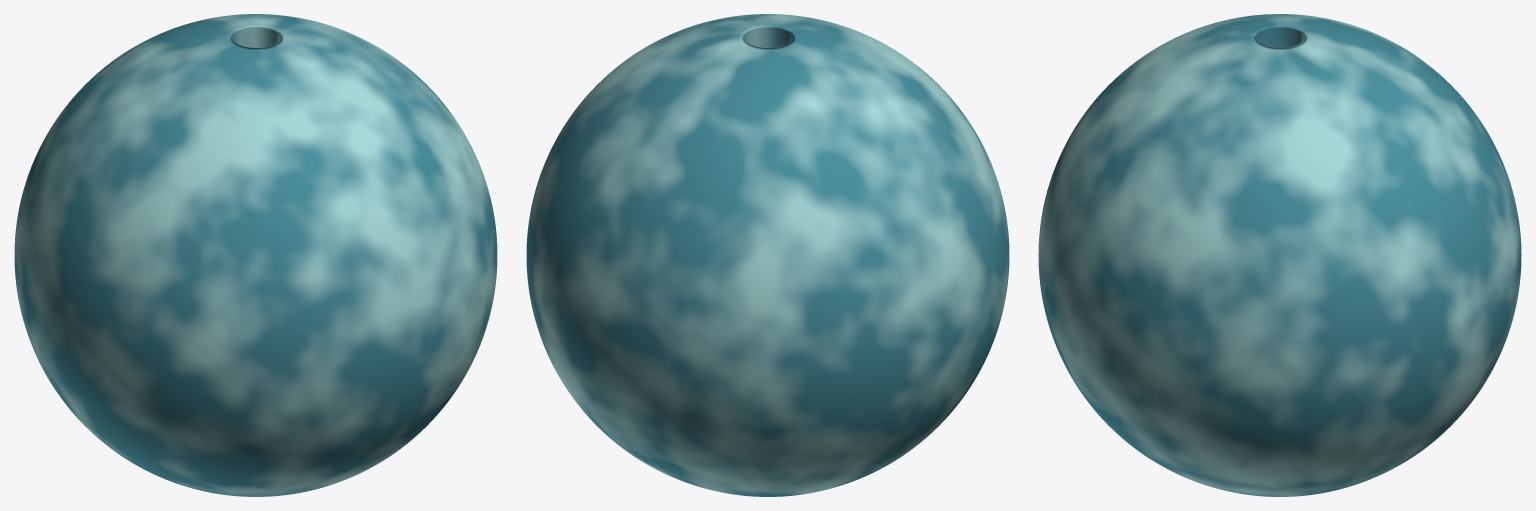
File: round-10mm.glb
The picture shows the model from 3 angles, left to right: view 1: azimuth 30°, elevation 25°; view 2: azimuth 150°, elevation 25°; view 3: azimuth 270°, elevation 25°; orthographic projection.
Visible parts, largest first — view 1: 圆珠; view 2: 圆珠; view 3: 圆珠.
Part boxes in pixels (<box>): 圆珠: <box>14,14,497,496</box>; 圆珠: <box>526,14,1009,496</box>; 圆珠: <box>1038,14,1521,496</box>.
Bounding box in the file's own units: 0.01 × 0.00995 × 0.01.
